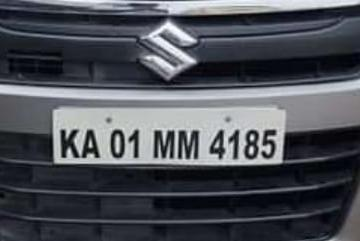0: (106, 126, 127, 158)
1: (126, 126, 142, 162), (227, 128, 242, 160)
4: (209, 128, 227, 164)
5: (258, 127, 281, 163)
8: (244, 128, 261, 161)
A: (81, 126, 101, 160)
K: (56, 126, 81, 160)
M: (151, 126, 176, 162), (177, 126, 202, 161)
